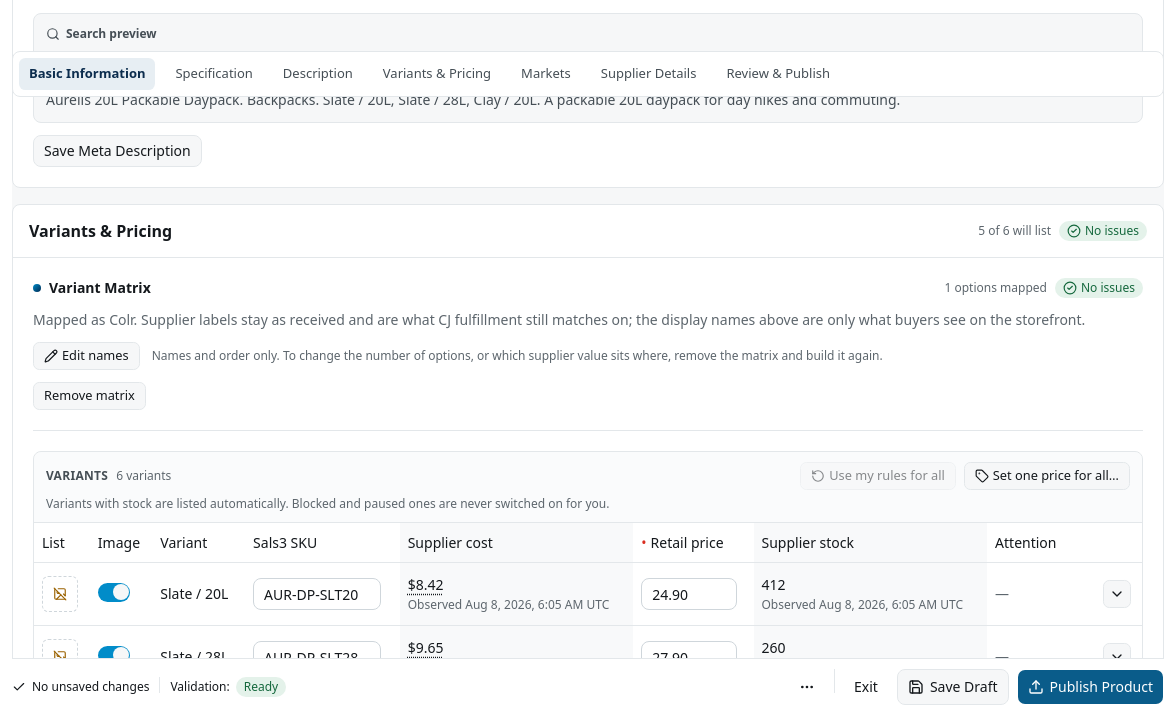
Test: Variant Matrix - renaming a saved mapping › keeps the new names on screen after the save resolves
(page scrolled)
Click the button "Edit names" at [86, 356], box [33,342,140,370]
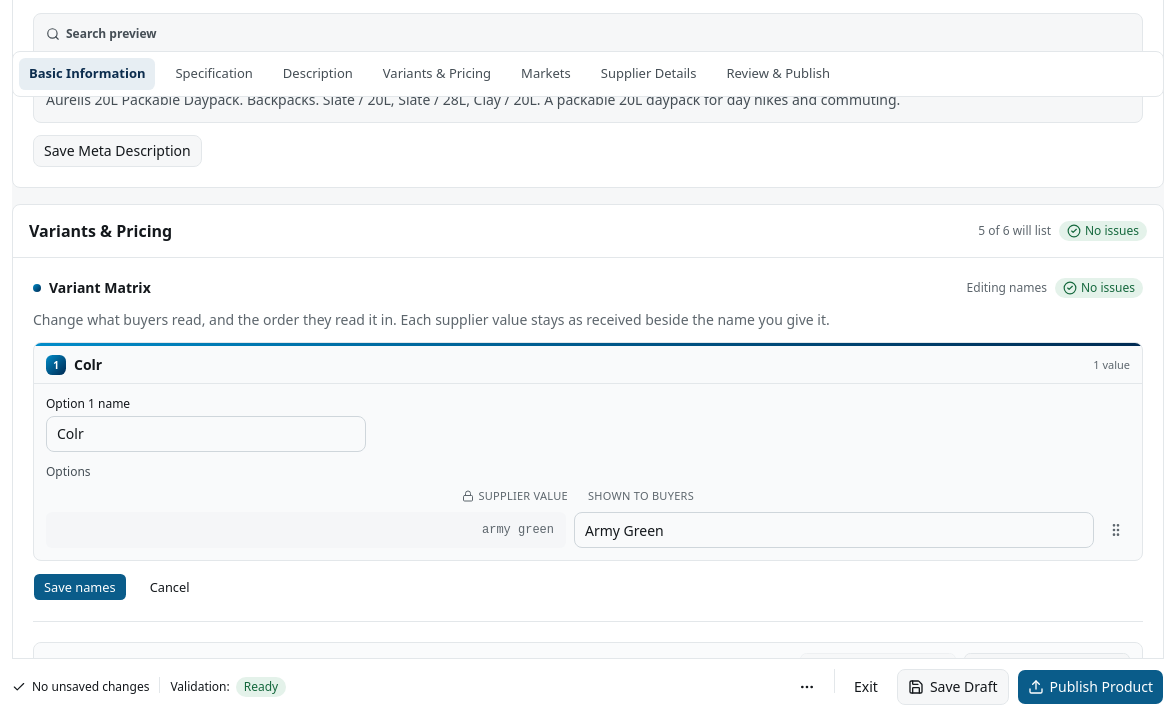
Replace the text in the field labelled "Option 1 name" with "Colour" at [206, 434], box [46,416,366,452]
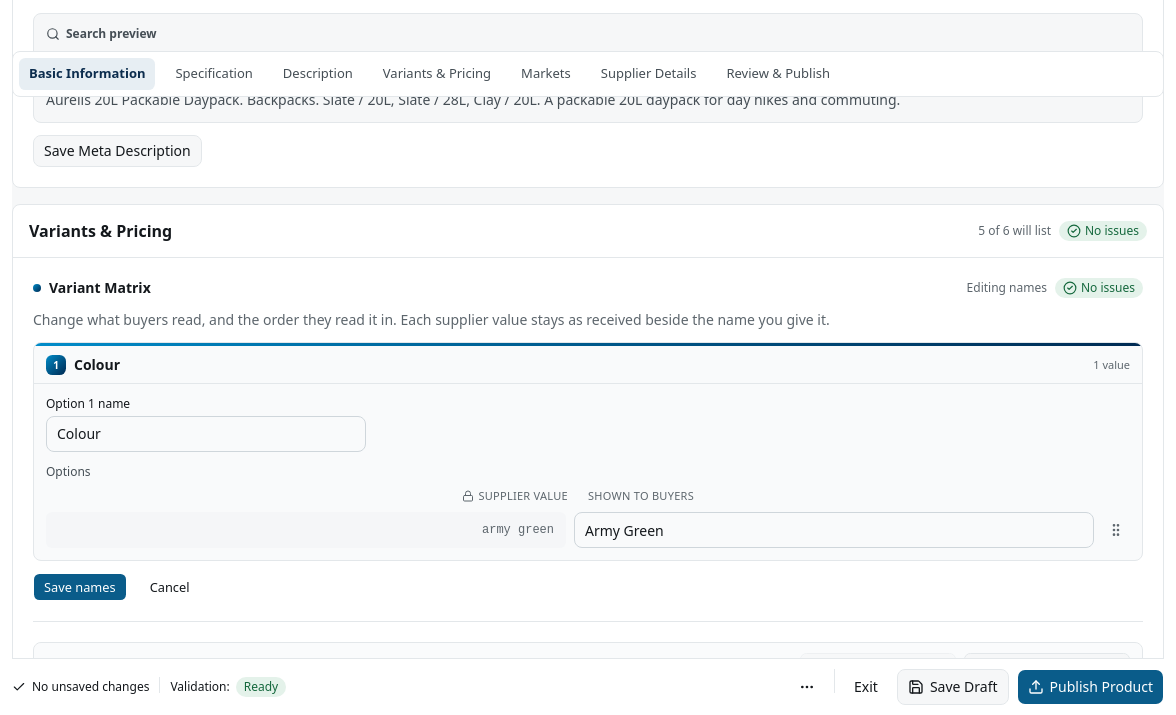
Click the button "Save names" at [80, 587], box [33,573,127,601]
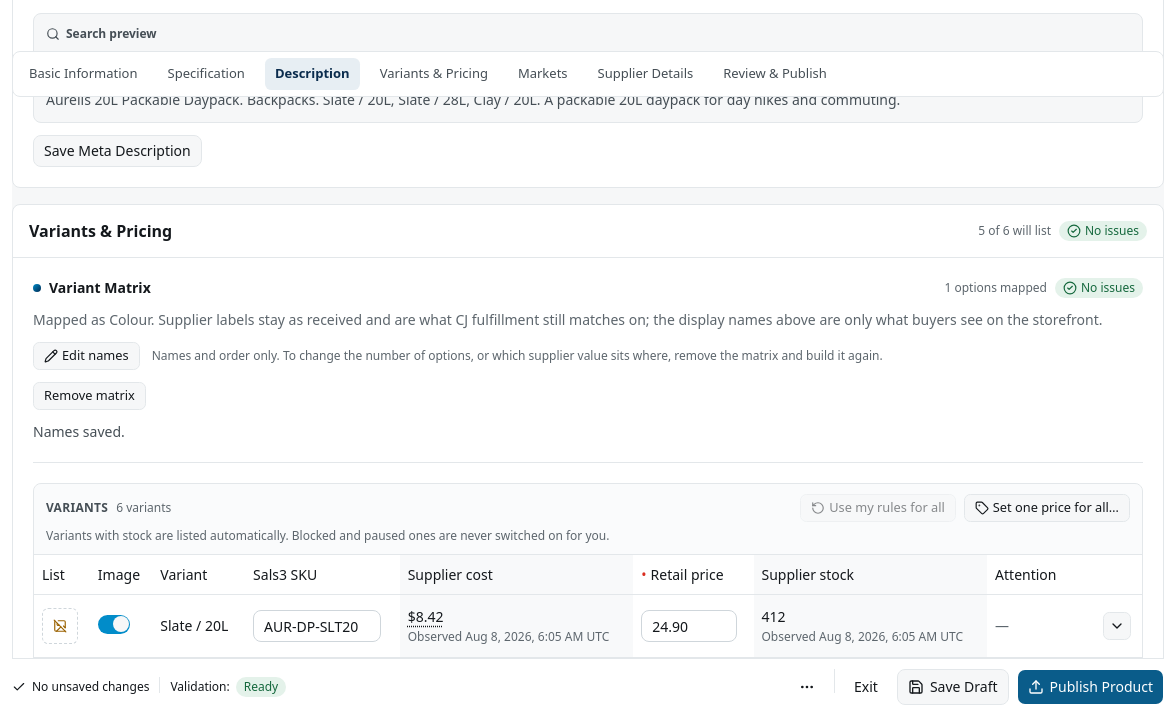
Result: the text "Mapped as Colour" is shown at [33,310,1143,330]
